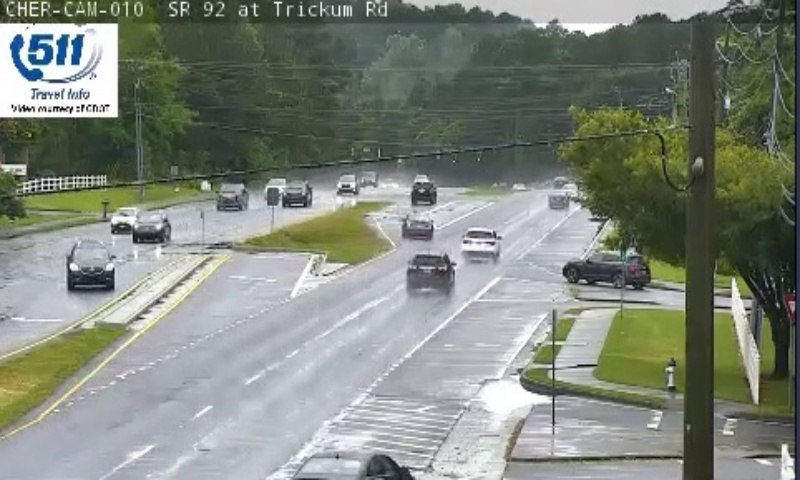car: (408, 252, 453, 290), (461, 227, 499, 256), (401, 211, 431, 238)
